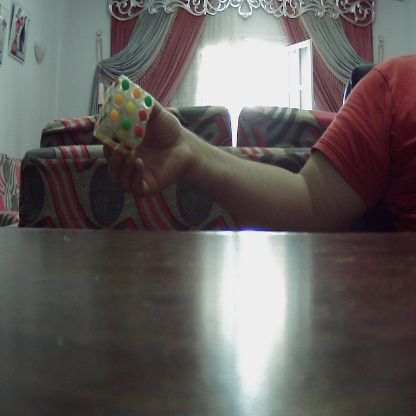Rubix Cube: (97, 82, 153, 151)
